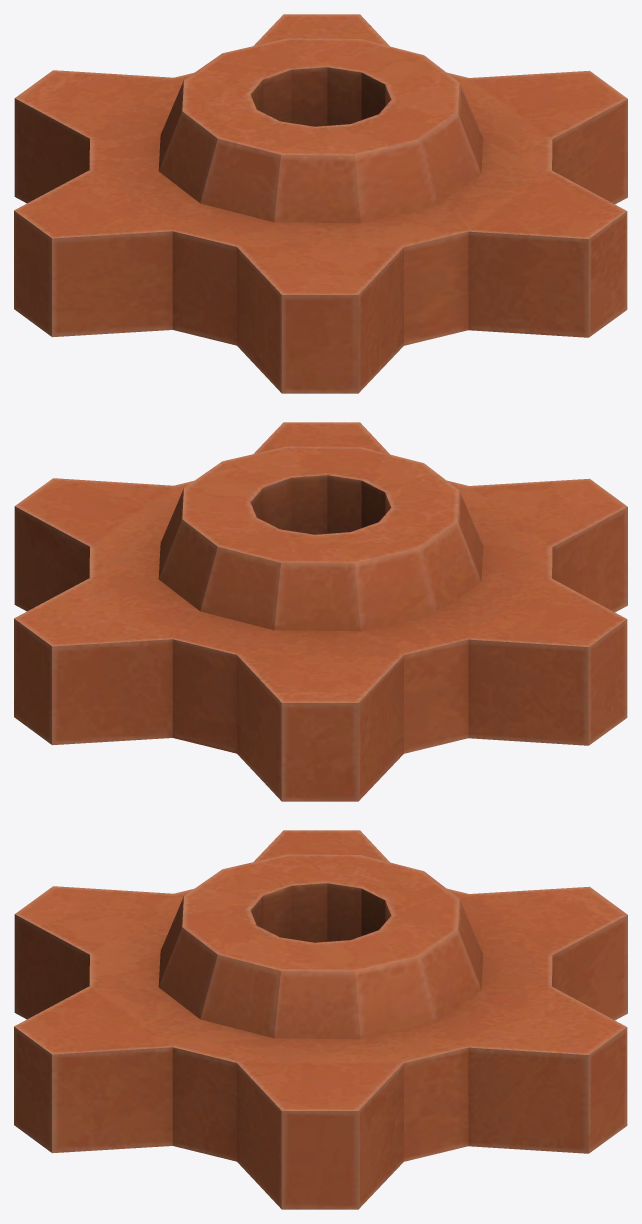
File: CopperGear_Polished.glb
3 views of the same model, one above another, from view 1: azimuth 30°, elevation 25°; view 2: azimuth 150°, elevation 25°; view 3: azimuth 270°, elevation 25° (orthographic).
Visible parts, largest first — view 1: CopperGear_Polished; view 2: CopperGear_Polished; view 3: CopperGear_Polished.
Boxes of the visible parts, left/top/right/bottom form: CopperGear_Polished: left=14, top=14, right=627, bottom=393; CopperGear_Polished: left=14, top=422, right=627, bottom=801; CopperGear_Polished: left=14, top=830, right=627, bottom=1209.
Bounding box in the file's own units: 0.4552 × 0.1182 × 0.4208.
Materials: 1 (1 with a texture image).
